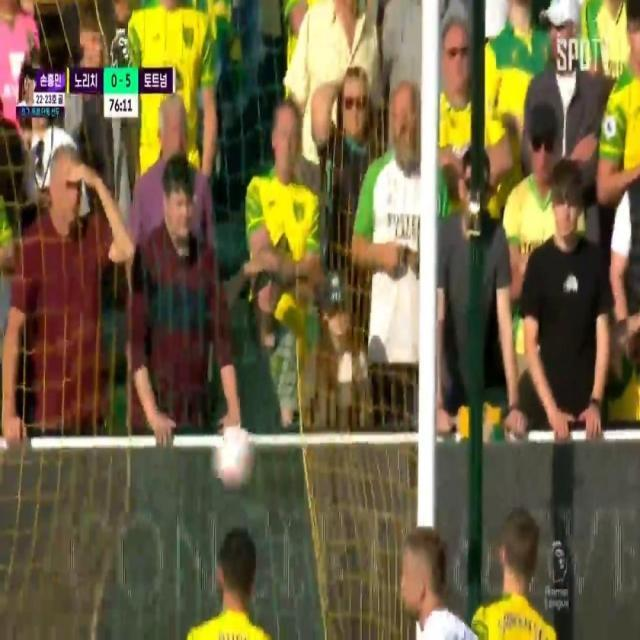ball: (210, 405, 259, 498)
player: (488, 495, 565, 640), (385, 517, 474, 640), (196, 523, 277, 640)
